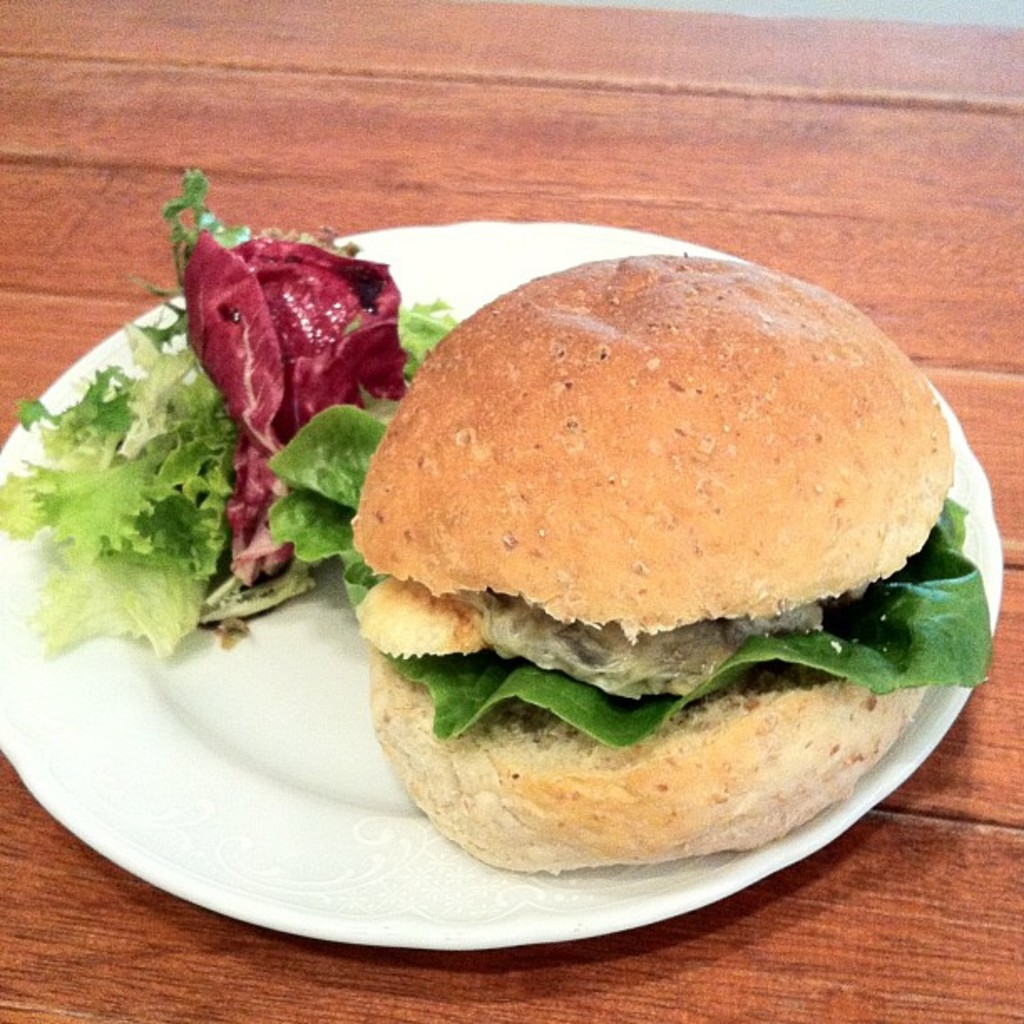Hamburger: (266, 244, 995, 876)
